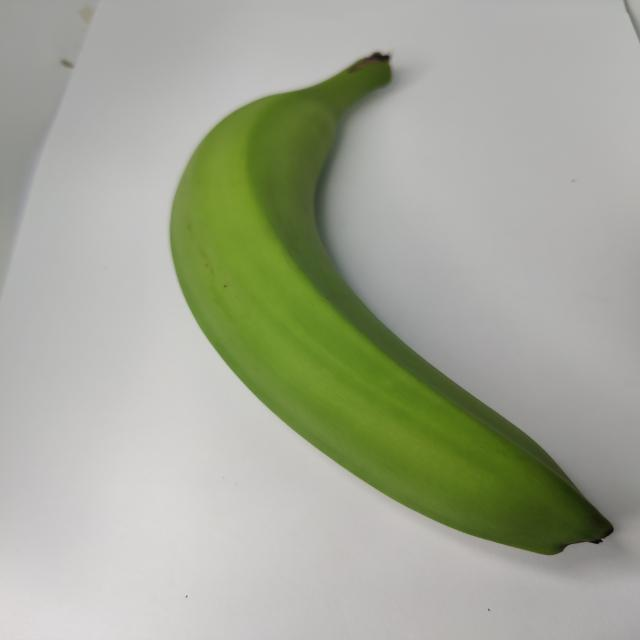raw: (132, 42, 626, 573)
